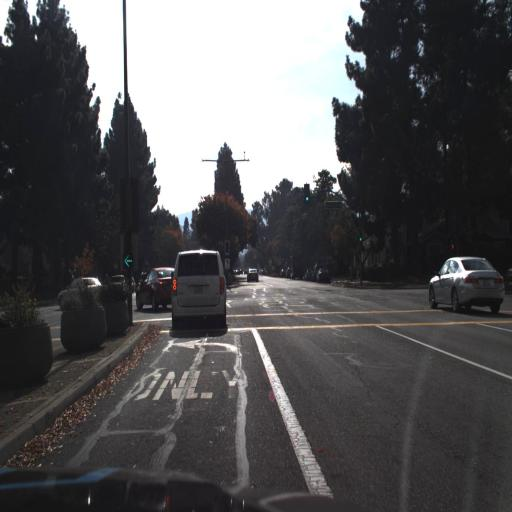car: (168, 247, 230, 336), (425, 247, 503, 315), (133, 264, 177, 308), (135, 265, 174, 310), (52, 275, 105, 305), (245, 262, 261, 288), (244, 265, 260, 287)
trafficLight-Green: (301, 185, 312, 211), (303, 183, 309, 204), (358, 228, 364, 245)
trafficLight-GreenLeft: (123, 241, 134, 272), (223, 239, 229, 261)
